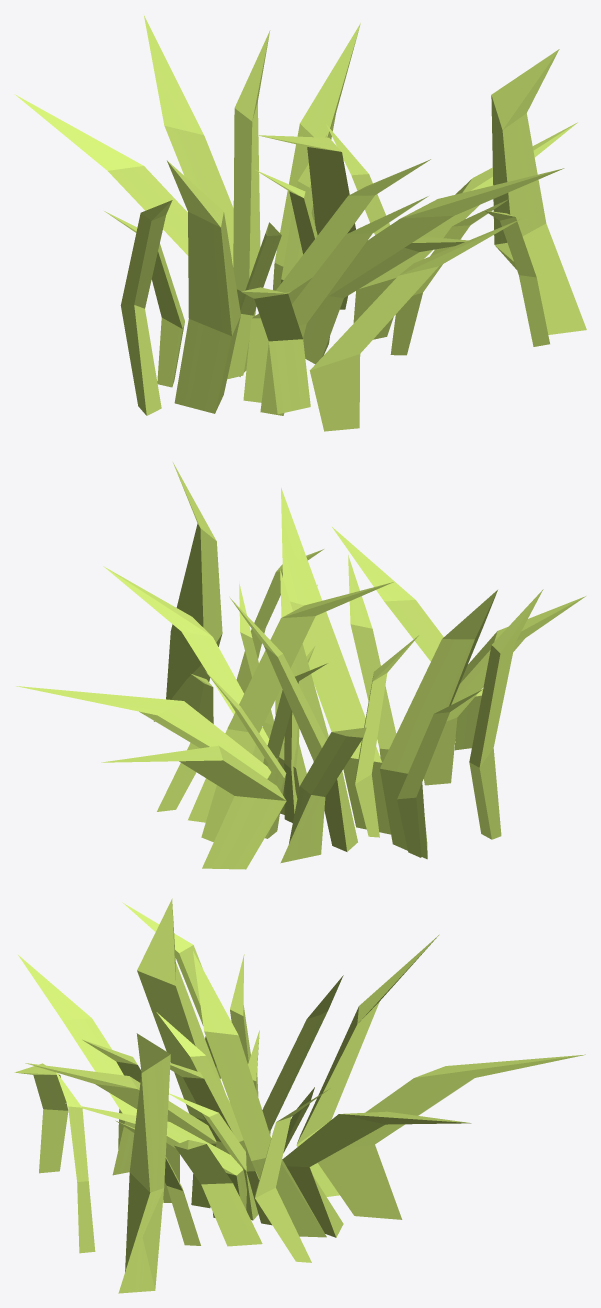
The model's file is grass3.fbx.
3 views of the same model, one above another, from view 1: azimuth 30°, elevation 25°; view 2: azimuth 150°, elevation 25°; view 3: azimuth 270°, elevation 25° (orthographic). The views are drawn at different scales.
Parts seen in each view (by area): view 1: Cone.006; view 2: Cone.006; view 3: Cone.006.
Boxes of the visible parts, box(x1,y1,x2,y2) form: Cone.006: box(14, 15, 586, 431); Cone.006: box(16, 462, 585, 869); Cone.006: box(14, 898, 585, 1293).
Bounding box in the file's own units: 76.69 × 51.74 × 93.91.
